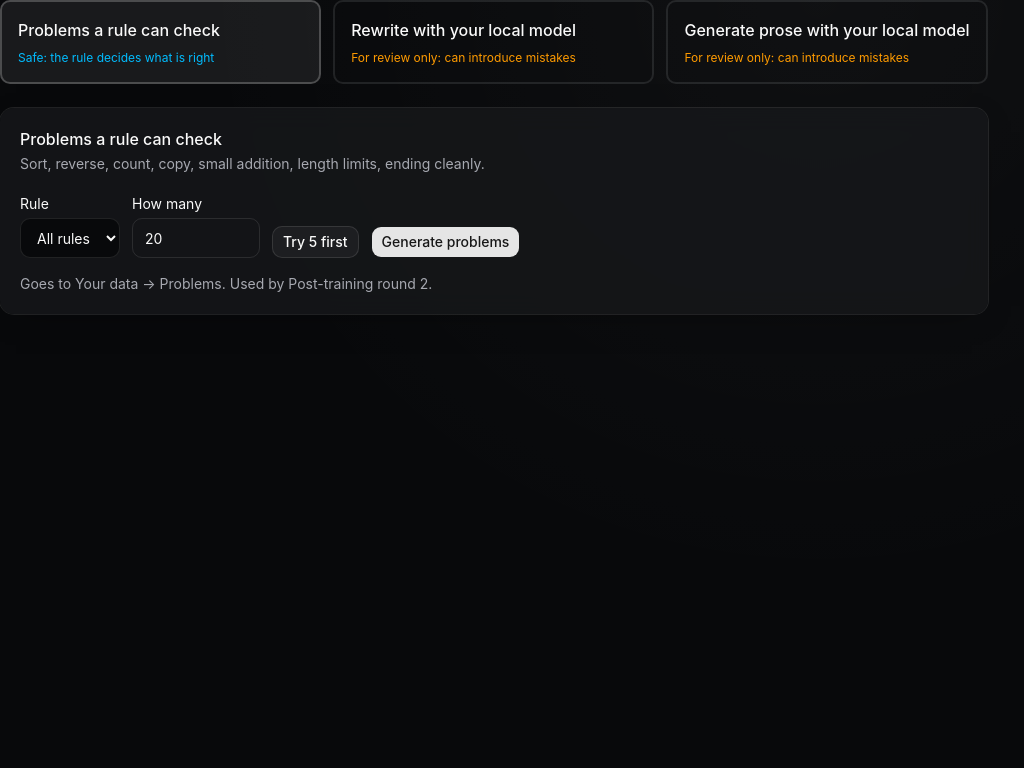
Test: Make extra data section › generated drafts require reading, and accept/discard remove only the chosen row
Click the button "Rewrite with your local model". click: (494, 42)
box: left=333, top=0, right=654, bottom=84
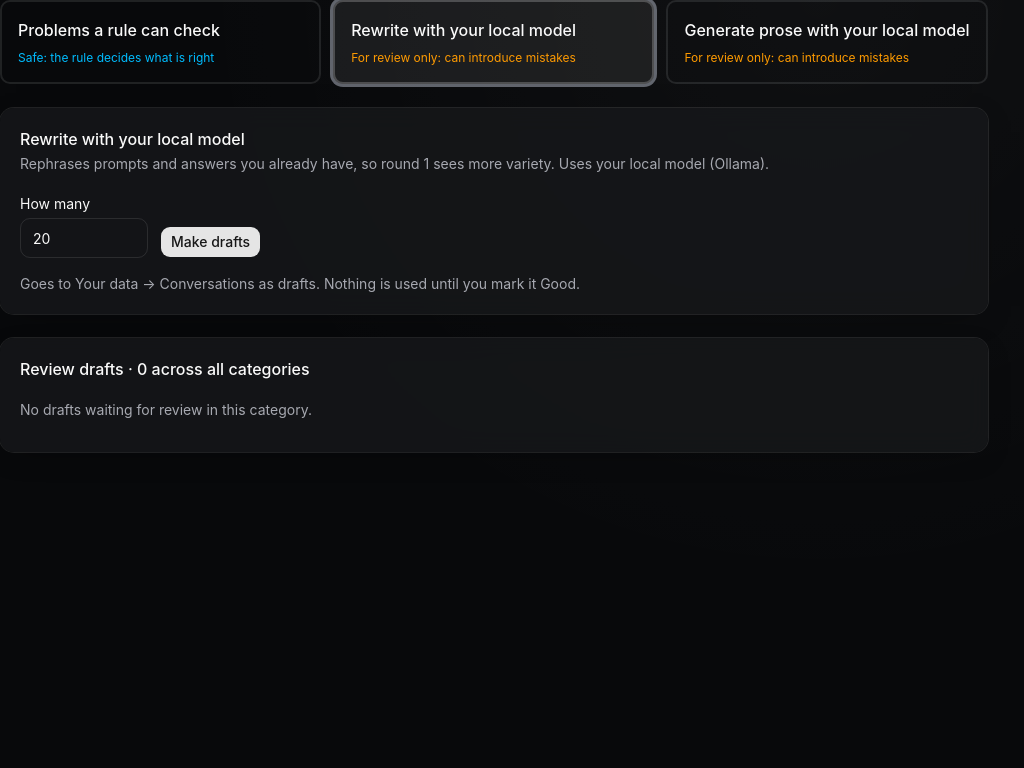
Click the button "Make drafts". click: (211, 242)
box: left=160, top=226, right=261, bottom=258
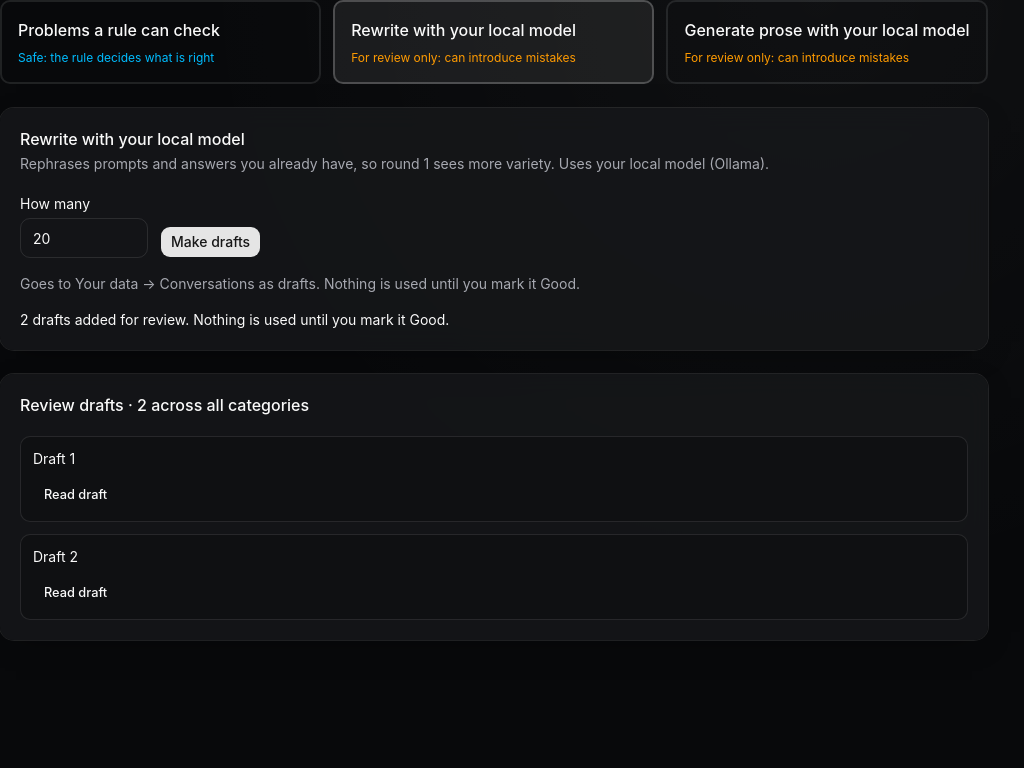
Expected: the button "Mark Good" is not shown
Click the button "Read draft" below "Draft 1". click: (76, 495)
box: left=33, top=481, right=118, bottom=509
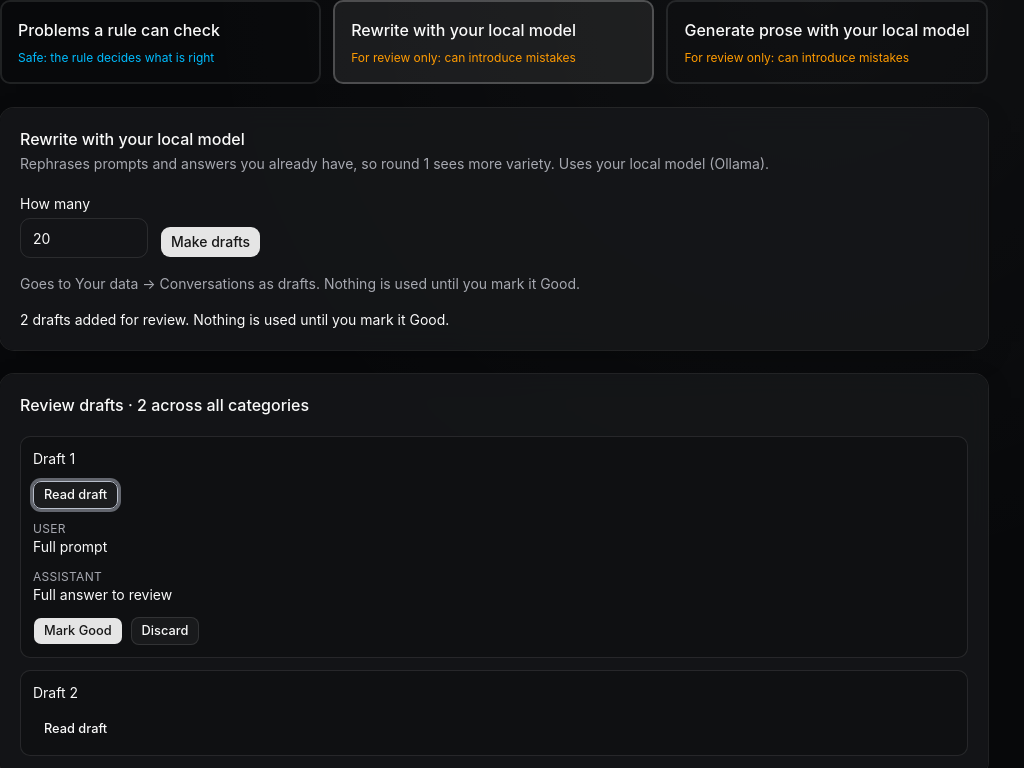
Expected: the text "Full answer to review" is shown, left=33, top=586, right=172, bottom=603
Click the button "Mark Good". click: (78, 631)
box: left=33, top=617, right=123, bottom=645
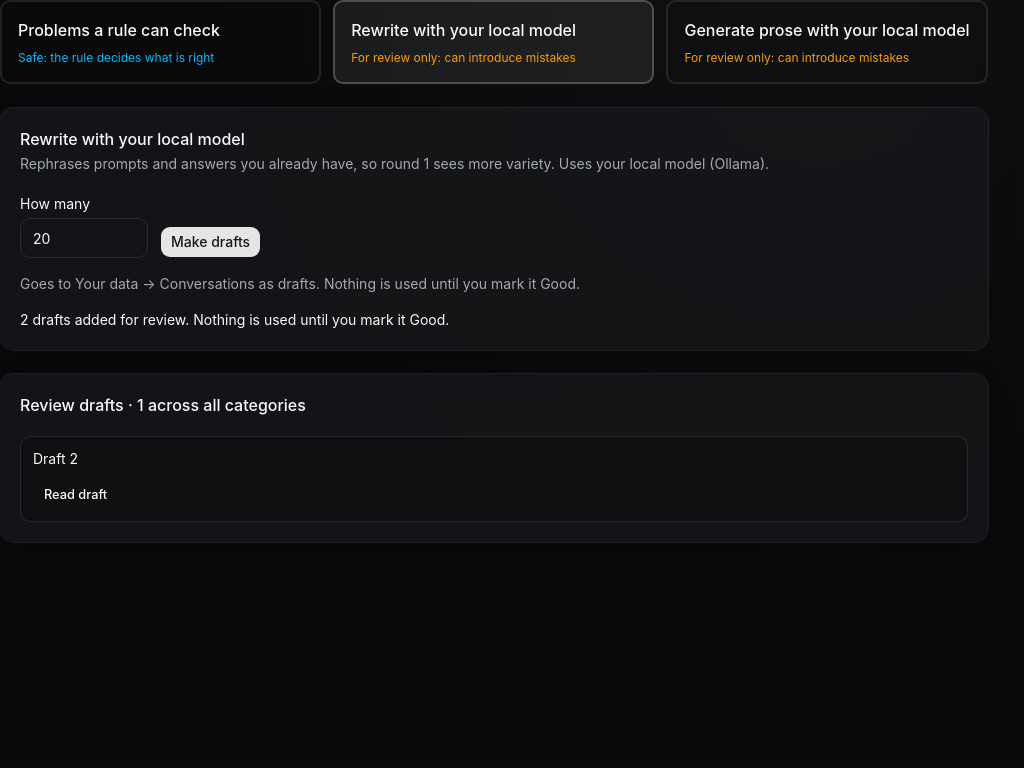
Expected: the list item with test id "draft-d2" is shown, left=20, top=436, right=968, bottom=522
Expected: the list item with test id "draft-d1" is gone
Click the button "Read draft". click: (76, 495)
box: left=33, top=481, right=118, bottom=509
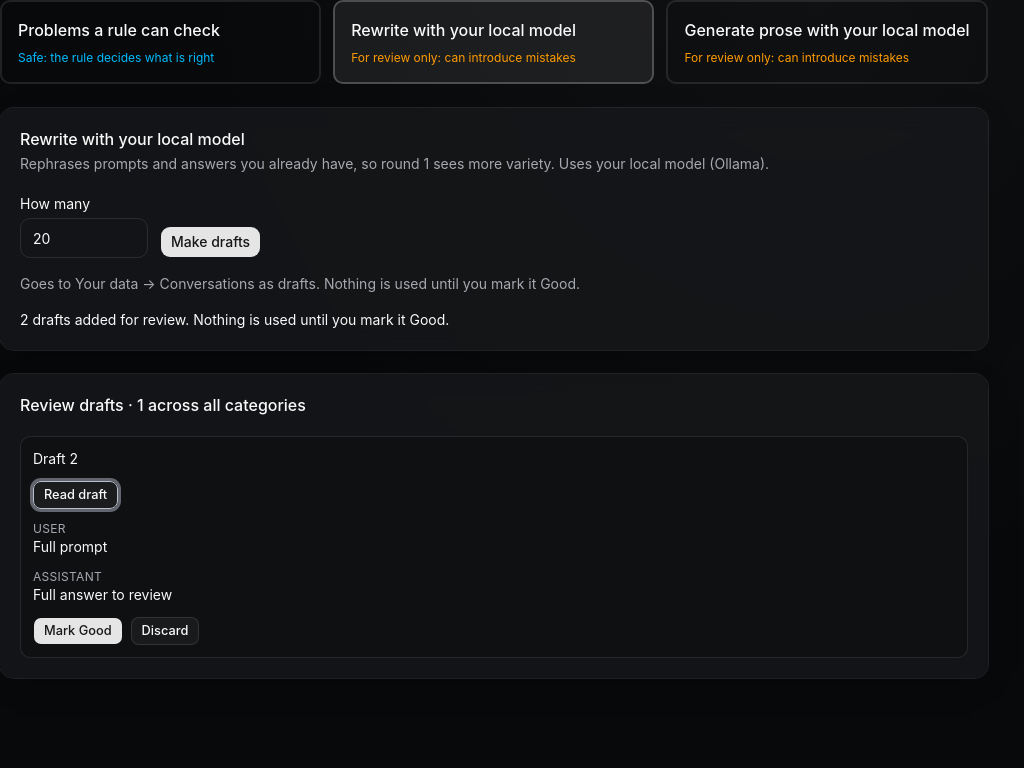
Click the button "Discard". click: (165, 631)
box: left=131, top=617, right=199, bottom=645
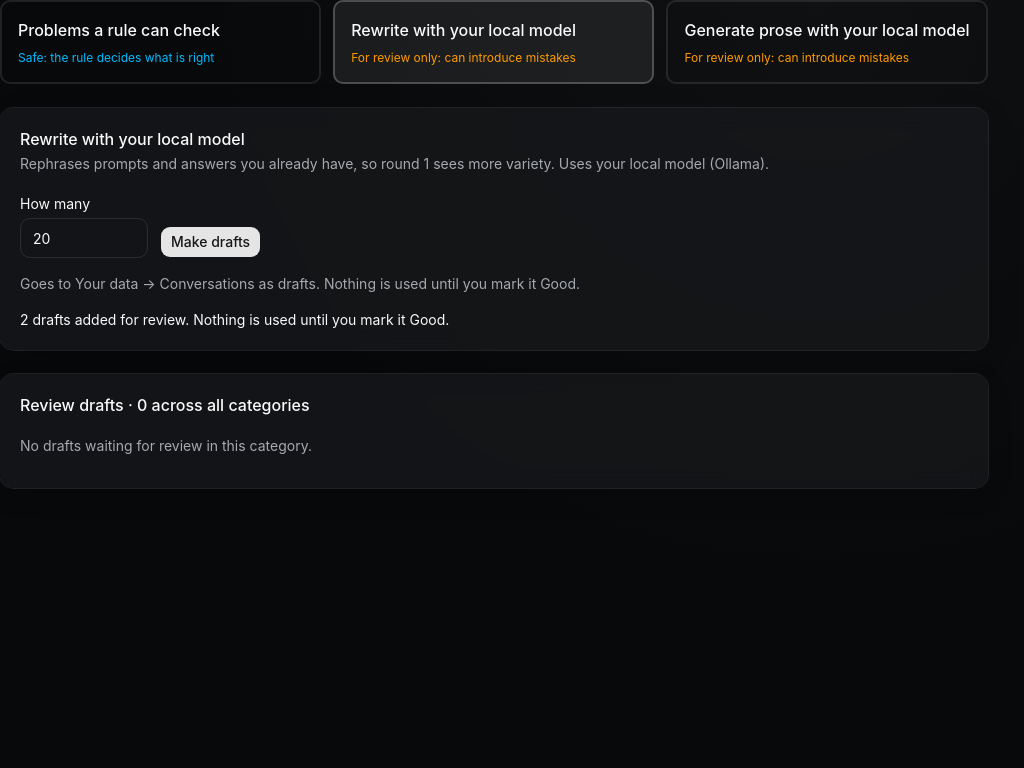
Expected: the text "No drafts waiting for review in this category." is shown, left=20, top=437, right=312, bottom=454
